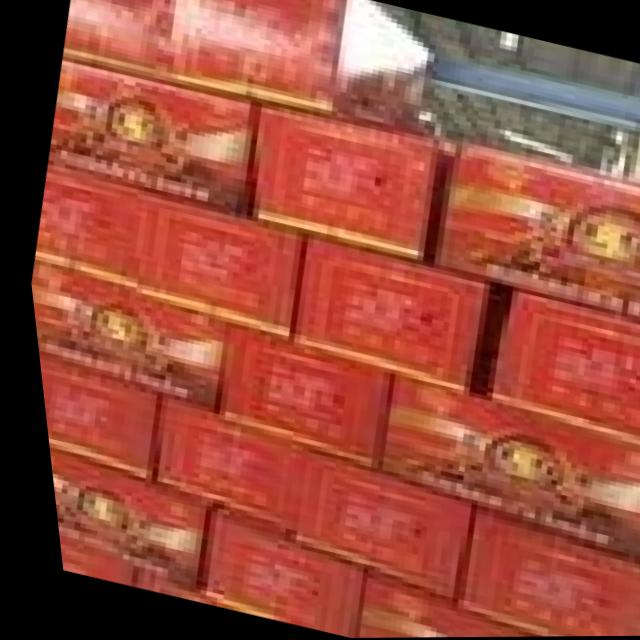box: (371, 377, 640, 562), (427, 144, 640, 326), (43, 56, 259, 219), (280, 238, 495, 395), (172, 0, 433, 129), (240, 103, 440, 263), (25, 259, 224, 413), (278, 448, 465, 599), (471, 284, 640, 447), (203, 323, 380, 470), (444, 509, 637, 637), (181, 505, 361, 638), (39, 447, 206, 590), (140, 196, 302, 341), (145, 398, 298, 531), (46, 526, 241, 616), (31, 356, 159, 481), (28, 168, 150, 293), (337, 568, 544, 638), (61, 0, 174, 83)
